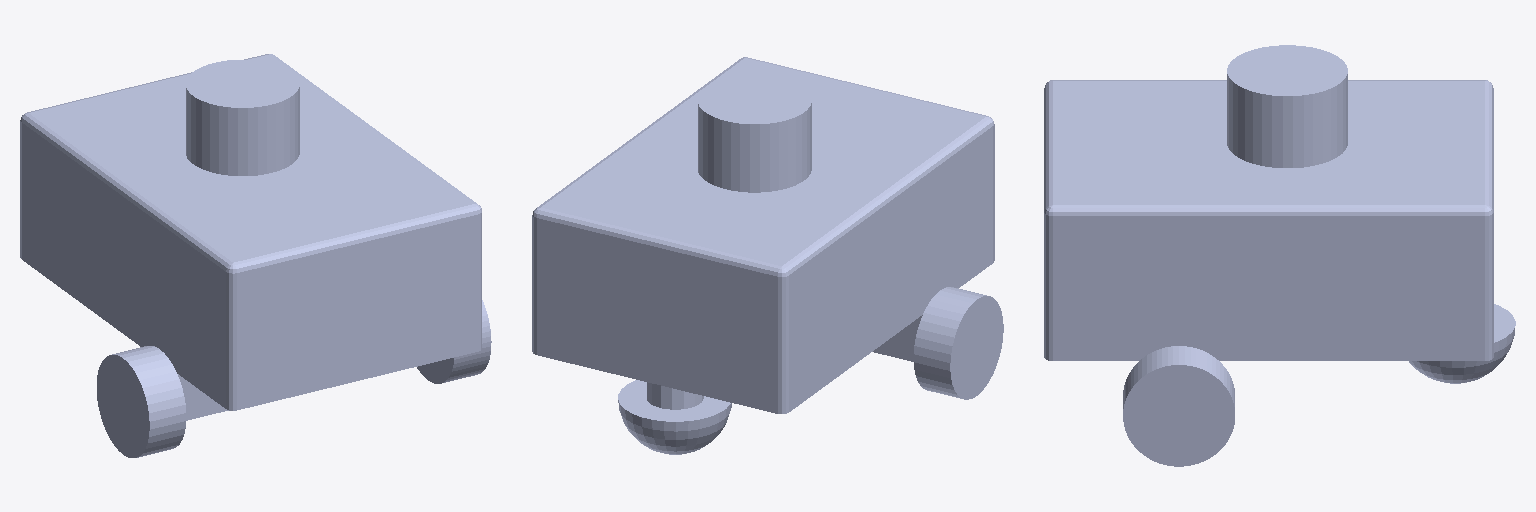
URDF robot description (robot_real):
<?xml version="1.0" encoding="utf-8"?>
<!-- This URDF was automatically created by SolidWorks to URDF Exporter! Originally created by [author] ([email redacted]) 
     Commit Version: 1.6.0-4-g7f85cfe  Build Version: 1.6.7995.38578
     For more information, please see http://wiki.ros.org/sw_urdf_exporter -->
<robot
  name="robot_real">

  <link name="robot_footprint"></link>

  <joint name="robot_footprint_joint" type="fixed">
    <origin xyz="0 0 0" rpy="0 0 0" />
    <parent link="robot_footprint"/>
    <child link="base_link" />
  </joint>

  <link
    name="base_link">
    <inertial>
      <origin
        xyz="0 0.00086857 -0.052452"
        rpy="0 0 0" />
      <mass
        value="4.8015" />
      <inertia
        ixx="0.031989"
        ixy="-1.3236E-18"
        ixz="-6.8277E-21"
        iyy="0.017464"
        iyz="0.00037688"
        izz="0.039875" />
    </inertial>
    <visual>
      <origin
        xyz="0 0 0"
        rpy="0 0 0" />
      <geometry>
        <mesh
          filename="package://my_robot/meshes/base_link.STL" />
      </geometry>
      <material
        name="">
        <color
          rgba="0.79216 0.81961 0.93333 1" />
      </material>
    </visual>
    <collision>
      <origin
        xyz="0 0 0"
        rpy="0 0 0" />
      <geometry>
        <mesh
          filename="package://my_robot/meshes/base_link.STL" />
      </geometry>
    </collision>
  </link>
  <link
    name="laser_link">
    <inertial>
      <origin
        xyz="9.8765E-13 -7.5229E-13 -0.0275"
        rpy="0 0 0" />
      <mass
        value="0.21166" />
      <inertia
        ixx="0.00011818"
        ixy="1.6676E-21"
        ixz="-2.1229E-36"
        iyy="0.00011818"
        iyz="-3.1058E-21"
        izz="0.00012964" />
    </inertial>
    <visual>
      <origin
        xyz="0 0 0"
        rpy="0 0 0" />
      <geometry>
        <mesh
          filename="package://my_robot/meshes/laser_link.STL" />
      </geometry>
      <material
        name="">
        <color
          rgba="0.79216 0.81961 0.93333 1" />
      </material>
    </visual>
    <collision>
      <origin
        xyz="0 0 0"
        rpy="0 0 0" />
      <geometry>
        <mesh
          filename="package://my_robot/meshes/laser_link.STL" />
      </geometry>
    </collision>
  </link>
  <joint
    name="laser_joint"
    type="fixed">
    <origin
      xyz="0 0.010725 0.046"
      rpy="0 0 0" />
    <parent
      link="base_link" />
    <child
      link="laser_link" />
    <axis
      xyz="0 0 0" />
  </joint>
  <link
    name="left_wheel">
    <inertial>
      <origin
        xyz="0.01304 0 0"
        rpy="0 0 0" />
      <mass
        value="0.086502" />
      <inertia
        ixx="4.5566E-05"
        ixy="7.1534E-20"
        ixz="7.1695E-20"
        iyy="2.7696E-05"
        iyz="2.1146E-34"
        izz="2.7696E-05" />
    </inertial>
    <visual>
      <origin
        xyz="0 0 0"
        rpy="0 0 0" />
      <geometry>
        <mesh
          filename="package://my_robot/meshes/left_wheel.STL" />
      </geometry>
      <material
        name="">
        <color
          rgba="0.79216 0.81961 0.93333 1" />
      </material>
    </visual>
    <collision>
      <origin
        xyz="0 0 0"
        rpy="0 0 0" />
      <geometry>
        <mesh
          filename="package://my_robot/meshes/left_wheel.STL" />
      </geometry>
    </collision>
  </link>
  <joint
    name="left_wheel_joint"
    type="continuous">
    <origin
      xyz="-0.1205 -0.051915 -0.118"
      rpy="0 0 0" />
    <parent
      link="base_link" />
    <child
      link="left_wheel" />
    <axis
      xyz="1 0 0" />
    <limit
      effort="0"
      velocity="2" />
  </joint>
  <link
    name="right_wheel">
    <inertial>
      <origin
        xyz="-0.01304 -4.4409E-16 2.2204E-16"
        rpy="0 0 0" />
      <mass
        value="0.086502" />
      <inertia
        ixx="4.5566E-05"
        ixy="1.7026E-19"
        ixz="-7.1695E-20"
        iyy="2.7696E-05"
        iyz="-7.8374E-34"
        izz="2.7696E-05" />
    </inertial>
    <visual>
      <origin
        xyz="0 0 0"
        rpy="0 0 0" />
      <geometry>
        <mesh
          filename="package://my_robot/meshes/right_wheel.STL" />
      </geometry>
      <material
        name="">
        <color
          rgba="0.79216 0.81961 0.93333 1" />
      </material>
    </visual>
    <collision>
      <origin
        xyz="0 0 0"
        rpy="0 0 0" />
      <geometry>
        <mesh
          filename="package://my_robot/meshes/right_wheel.STL" />
      </geometry>
    </collision>
  </link>
  <joint
    name="right_wheel_joint"
    type="continuous">
    <origin
      xyz="0.1205 -0.051915 -0.118"
      rpy="0 0 0" />
    <parent
      link="base_link" />
    <child
      link="right_wheel" />
    <axis
      xyz="1 0 0" />
    <limit
      effort="0"
      velocity="2" />
  </joint>
</robot>

--- Facts derived from the render (not from the file) ---
The picture shows the robot from 3 angles, left to right: view 1: azimuth 30°, elevation 25°; view 2: azimuth 150°, elevation 25°; view 3: azimuth 270°, elevation 25°; orthographic projection.
Model robot_real with 5 links and 4 joints (2 continuous, 2 fixed), rooted at robot_footprint, posed all joints at 0.
Visible links, largest first — view 1: base_link, laser_link, left_wheel, right_wheel; view 2: base_link, laser_link, left_wheel; view 3: base_link, laser_link, right_wheel.
Link boxes in pixels (x1,y1,x2,y2): base_link: (20, 54, 481, 420); laser_link: (186, 60, 299, 175); left_wheel: (97, 346, 185, 457); right_wheel: (417, 300, 491, 383); base_link: (532, 57, 994, 454); laser_link: (698, 76, 811, 192); left_wheel: (914, 287, 1003, 399); base_link: (1044, 80, 1515, 383); laser_link: (1227, 45, 1347, 167); right_wheel: (1123, 346, 1234, 466).
Size in the robot's own frame: 0.241 by 0.2724 by 0.1965 metres.
Meshes: 4 distinct files referenced, 4 mesh visuals loaded (4 binary STL).